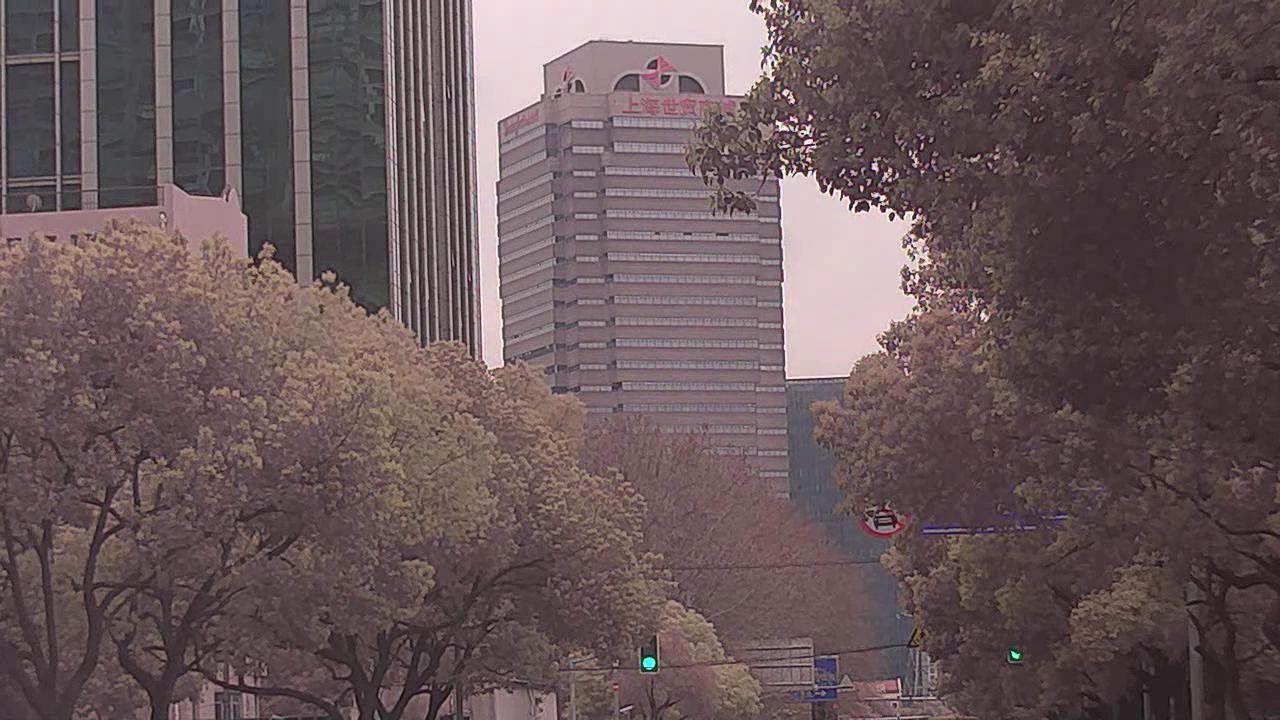traffic_light: (642, 627, 659, 673)
